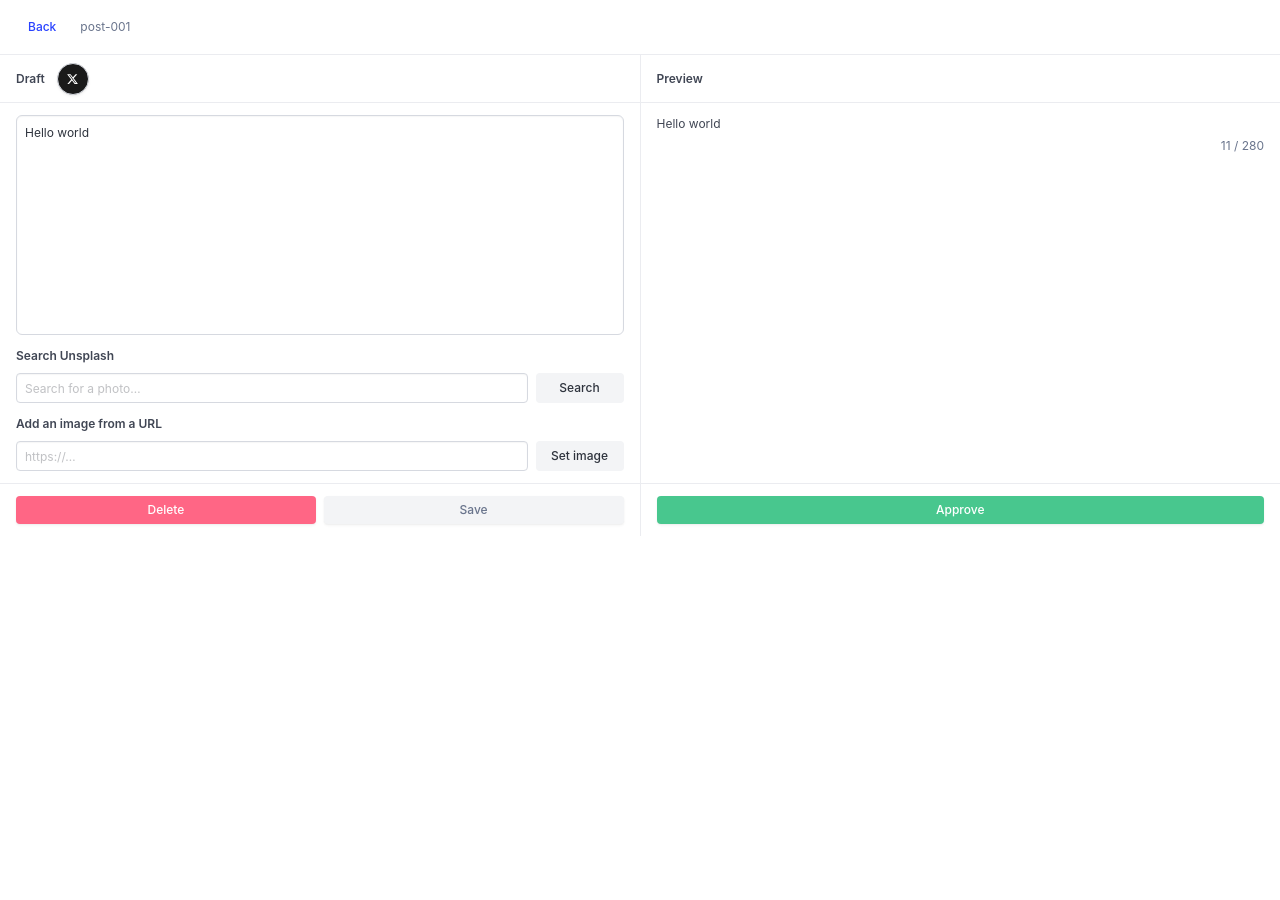
Scenario: EditPostView — Delete › shows confirmation dialog mentioning the platform
Click the button "Delete".
click(166, 510)  # box [16,496,316,524]
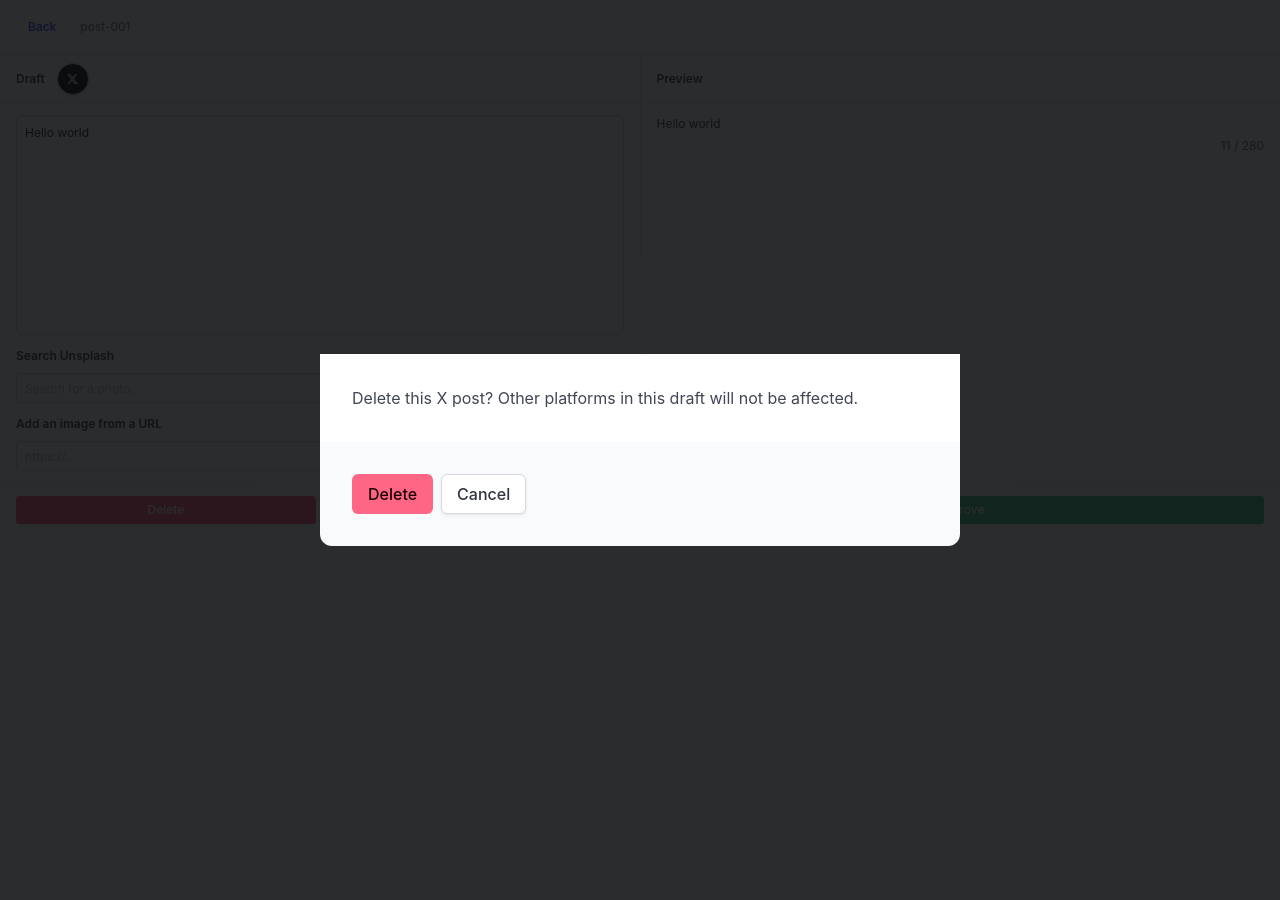
Result: the text "Other platforms" is shown at [447,388,858,408]
